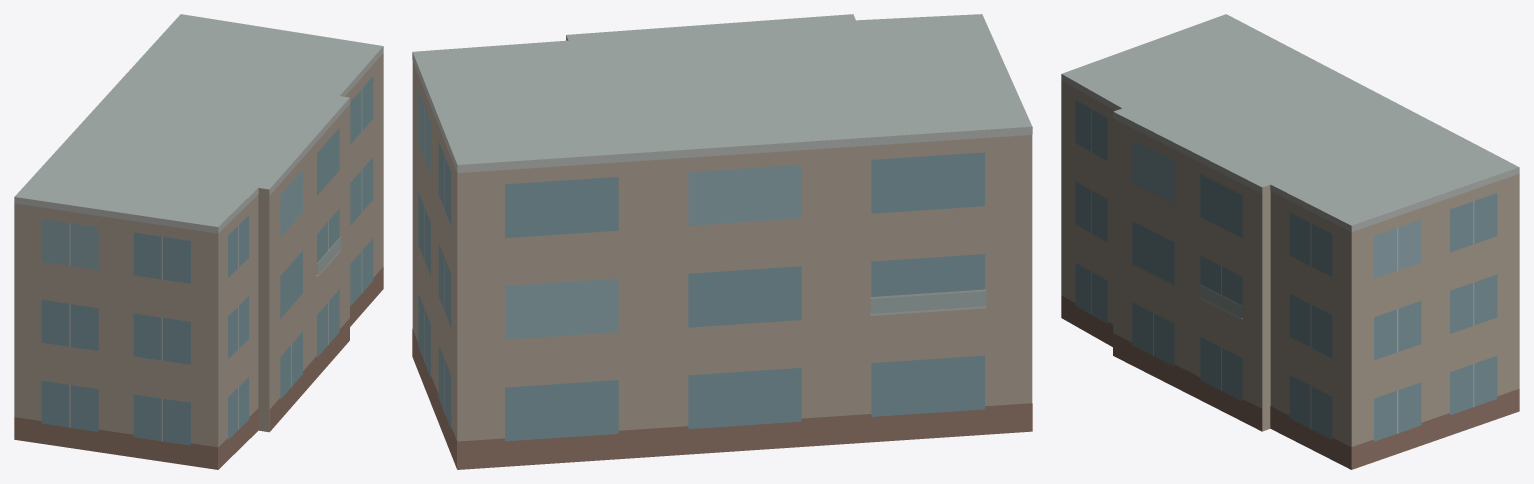
The model's file is survey-upis-32916008.glb.
3 views of the same model, side by side, from view 1: azimuth 30°, elevation 25°; view 2: azimuth 150°, elevation 25°; view 3: azimuth 270°, elevation 25° (orthographic). The views are drawn at different scales.
Visible parts, largest first — view 1: survey-upis-32916008.tmp; view 2: survey-upis-32916008.tmp; view 3: survey-upis-32916008.tmp.
Part boxes in pixels (x1=…): survey-upis-32916008.tmp: x1=14, y1=14, x2=383, y2=469; survey-upis-32916008.tmp: x1=412, y1=14, x2=1032, y2=469; survey-upis-32916008.tmp: x1=1061, y1=14, x2=1519, y2=469.
Size of the model in its own units: 17.03 by 9.15 by 15.57.
